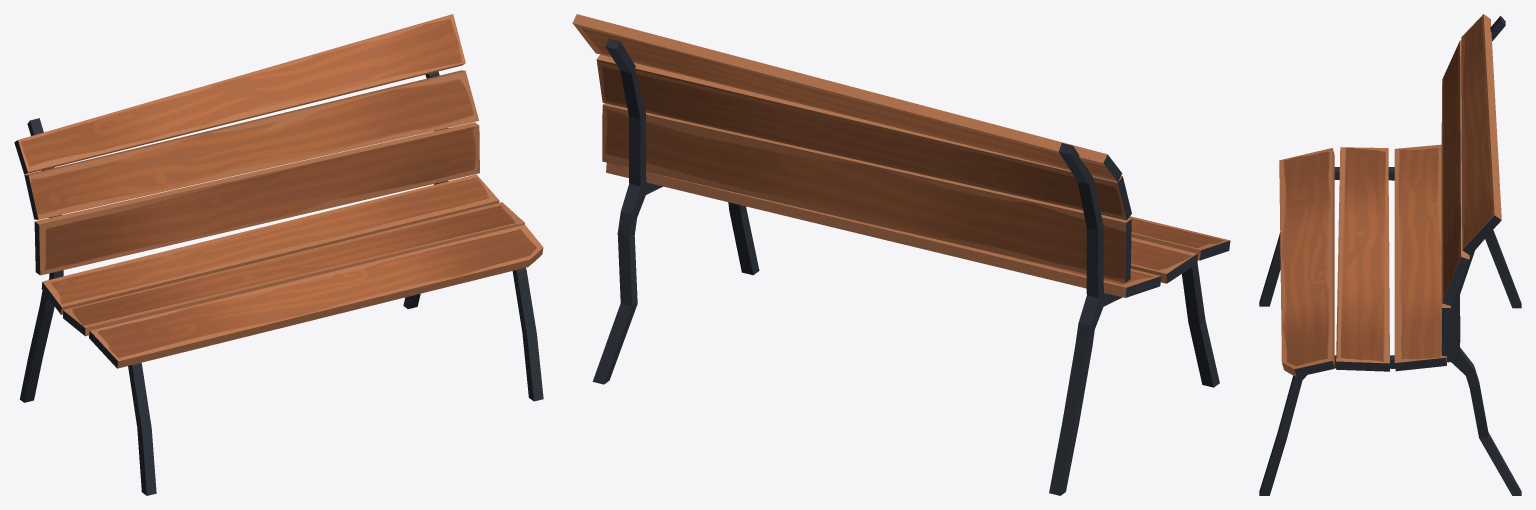
File: Banco exterior.fbx
The picture shows the model from 3 angles, left to right: view 1: azimuth 30°, elevation 25°; view 2: azimuth 150°, elevation 25°; view 3: azimuth 270°, elevation 25°; orthographic projection. The views are drawn at different scales.
Visible parts, largest first — view 1: Cube.001; view 2: Cube.001; view 3: Cube.001.
Boxes of the visible parts, x1,y1,x2,y2 form: Cube.001: (14, 14, 543, 495); Cube.001: (572, 14, 1230, 495); Cube.001: (1259, 14, 1521, 495).
Bounding box in the file's own units: 191 × 120 × 96.92.
